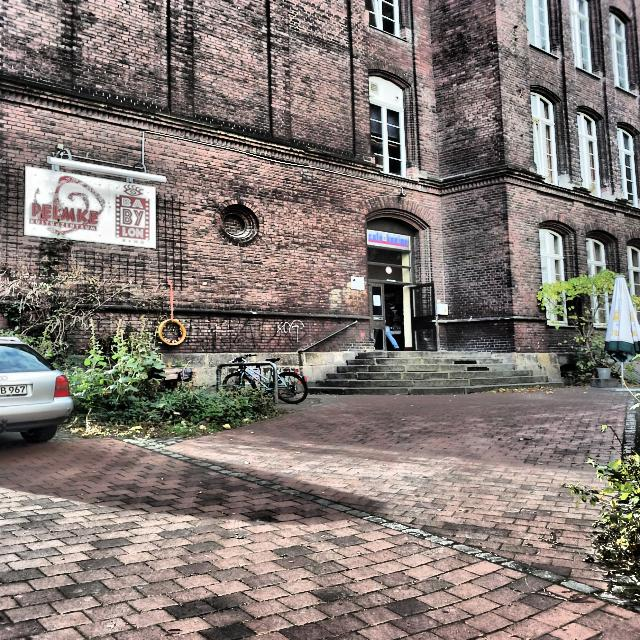escada: (301, 347, 564, 396)
